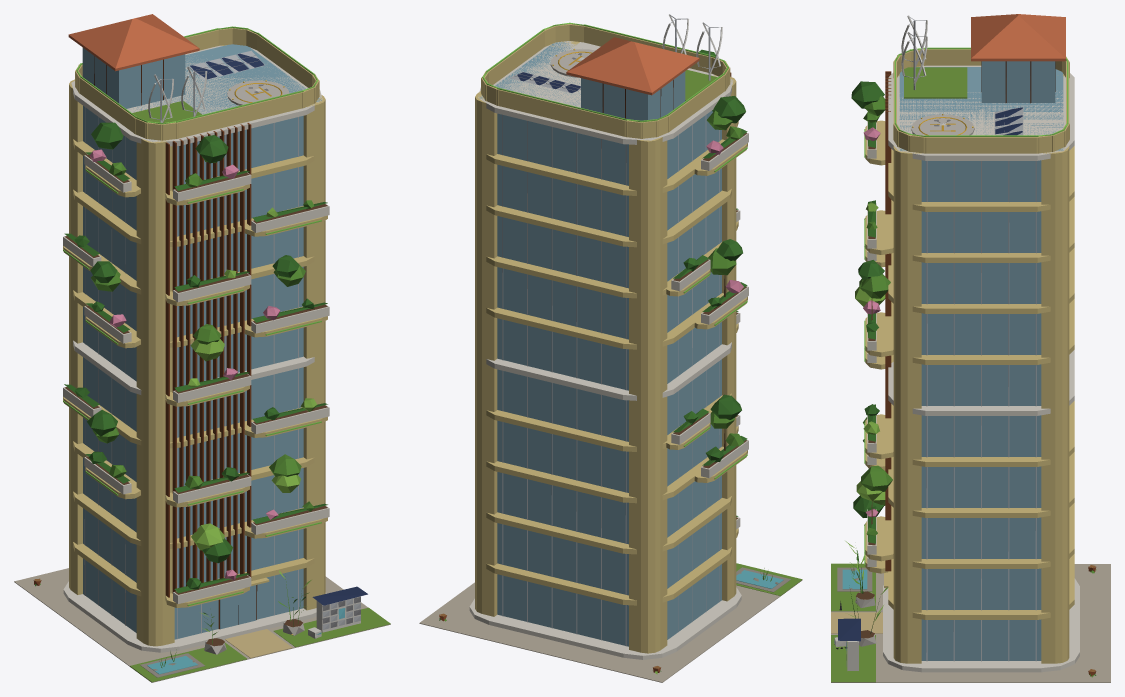
File: home_4.glb
3 views of the same model, side by side, from view 1: azimuth 30°, elevation 25°; view 2: azimuth 150°, elevation 25°; view 3: azimuth 270°, elevation 25° (orthographic).
Parts seen in each view (by area): view 1: body, windows; view 2: body, windows; view 3: body, windows.
Part boxes in pixels (box(x1,y1,x2,y2)): body: box(14, 14, 390, 682); windows: box(63, 26, 345, 634); body: box(419, 14, 802, 682); windows: box(482, 22, 747, 479); body: box(831, 14, 1110, 682); windows: box(834, 47, 1068, 650).
Bounding box in the file's own units: 15.96 × 37.05 × 15.9.
